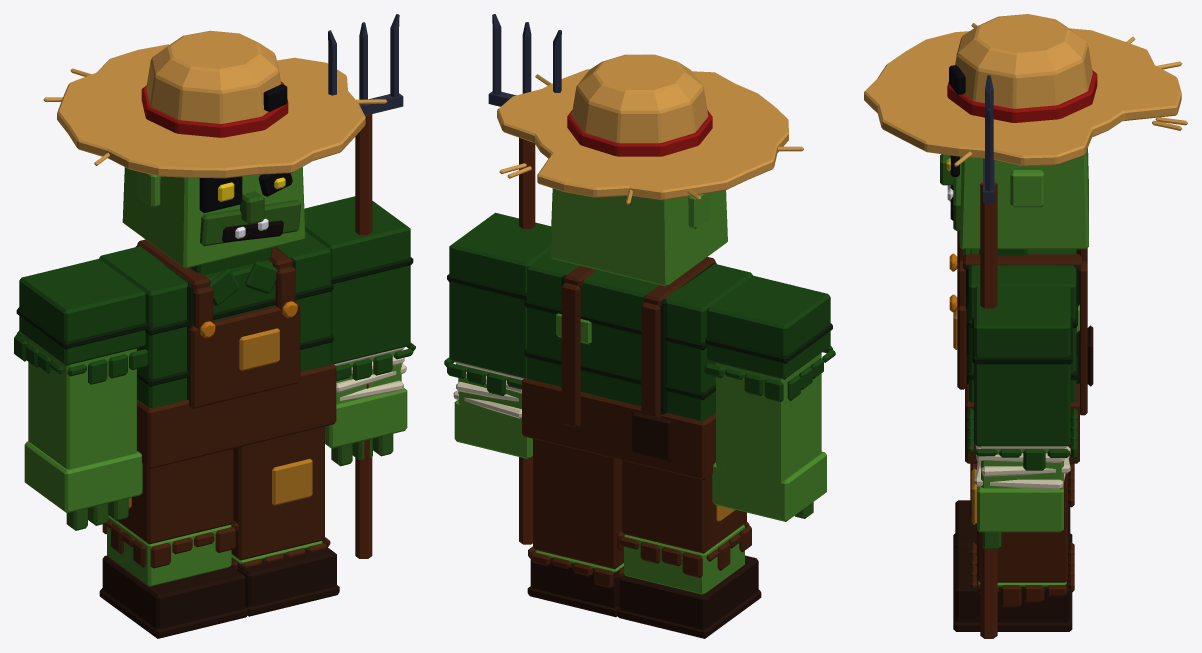
The model's file is myw_zombiefarmerboss.obj.
3 renders of one model, left to right at view 1: azimuth 30°, elevation 25°; view 2: azimuth 150°, elevation 25°; view 3: azimuth 270°, elevation 25°, orthographic. The views are drawn at different scales.
Visible parts, largest first — view 1: Torso, Hat, LeftArm, LeftLeg, RightArm, RightLeg, Head, Pitchfork; view 2: Torso, Hat, LeftArm, LeftLeg, RightArm, RightLeg, Head, Pitchfork; view 3: Hat, RightArm, Head, RightLeg, Torso, Pitchfork, LeftLeg.
Part boxes in pixels (left/top/right/bottom): Torso: left=99, top=232, right=336, bottom=468; Hat: left=43, top=30, right=387, bottom=178; LeftArm: left=14, top=259, right=148, bottom=530; LeftLeg: left=99, top=448, right=247, bottom=638; RightArm: left=304, top=196, right=415, bottom=466; RightLeg: left=231, top=426, right=339, bottom=616; Head: left=122, top=167, right=305, bottom=268; Pitchfork: left=328, top=14, right=403, bottom=558; Torso: left=522, top=251, right=752, bottom=480; Hat: left=497, top=54, right=803, bottom=204; LeftArm: left=704, top=275, right=835, bottom=521; LeftLeg: left=617, top=460, right=761, bottom=638; RightArm: left=444, top=212, right=551, bottom=458; RightLeg: left=527, top=439, right=624, bottom=617; Head: left=550, top=188, right=727, bottom=286; Pitchfork: left=488, top=14, right=561, bottom=544; Hat: left=864, top=14, right=1187, bottom=166; RightArm: left=967, top=286, right=1077, bottom=549; Head: left=940, top=148, right=1088, bottom=249; RightLeg: left=953, top=468, right=1074, bottom=631; Torso: left=949, top=231, right=1093, bottom=463; Pitchfork: left=980, top=75, right=997, bottom=638; LeftLeg: left=953, top=463, right=1074, bottom=579.
Size of the model in its own units: 4.4 by 6.45 by 3.38.
